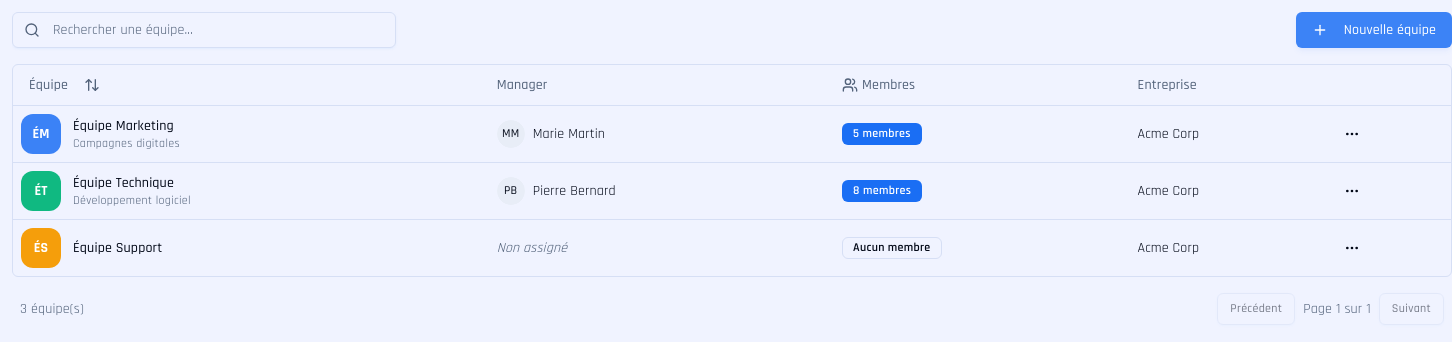
Test: TeamsDataTable › Recherche › filtre les équipes par nom
Type "Marketing" into the field with placeholder "Rechercher une équipe..." at (204,30), box [12, 12, 396, 48]
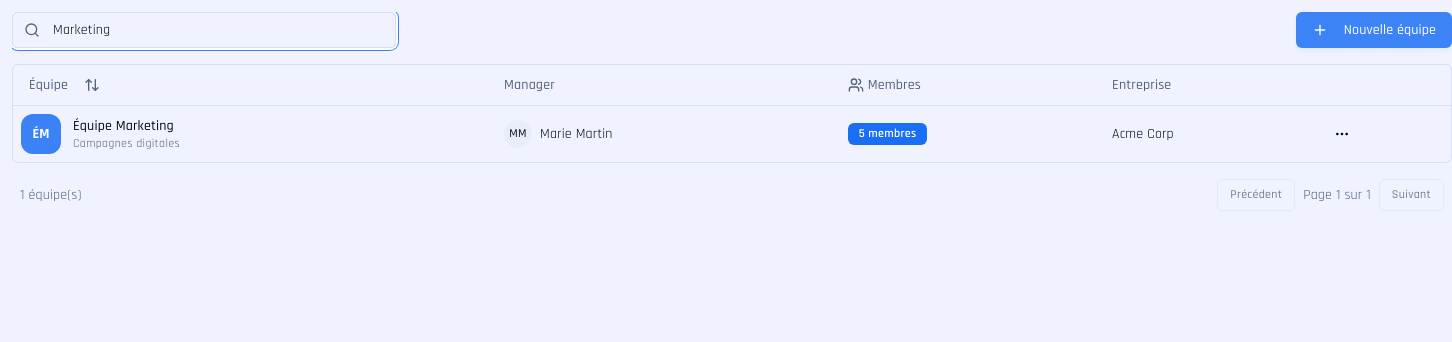
Result: the text "Équipe Technique" is gone
Result: the text "1 équipe(s)" is shown at [20, 184, 82, 204]
